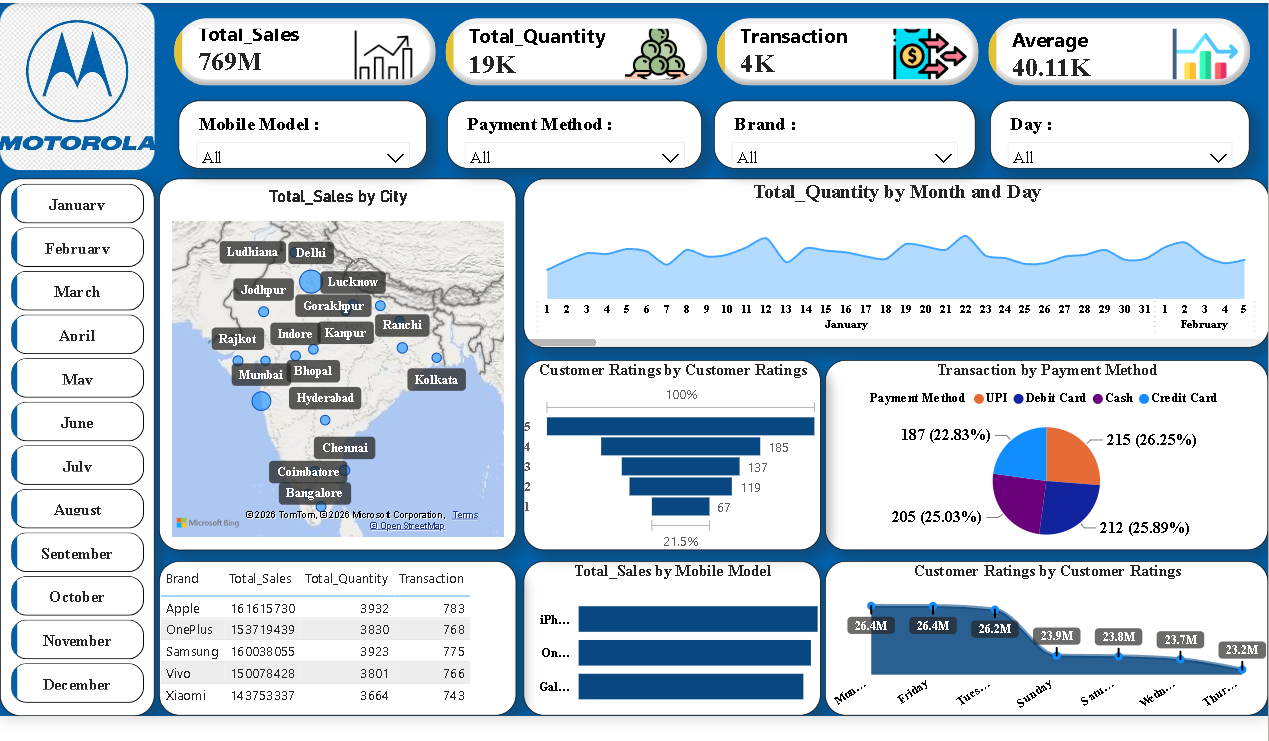

This screenshot's page, from the dashboard's own definition file:
{"tool":"powerbi","page":{"name":"Page 1","canvas":[1280,720],"ordinal":0},"visuals":[{"type":"shape","box":[0,177,155.7,542.6],"z":0},{"type":"image","box":[0,0,155.7,168.9],"z":1000},{"type":"advancedSlicerVisual","fields":{"Values":["SALES_DATA.Date.Variation.Date Hierarchy.Month"]},"box":[6.6,177,144.3,544.3],"z":2000},{"type":"cardVisual","fields":{"Data":["SALES_DATA.Total_Sales","SALES_DATA.Total_Quantity","SALES_DATA.Transaction","SALES_DATA.Average"]},"box":[160.7,0,1119.7,106.6],"z":3000},{"type":"map","fields":{"Category":["SALES_DATA.City"],"Size":["SALES_DATA.Total_Sales"]},"box":[160.7,177,360.7,375.4],"z":4000},{"type":"lineChart","fields":{"Category":["SALES_DATA.Date.Variation.Date Hierarchy.Month","SALES_DATA.Date.Variation.Date Hierarchy.Day"],"Y":["SALES_DATA.Total_Quantity"]},"box":[527.9,177,752.5,170.5],"z":5000},{"type":"barChart","fields":{"Category":["SALES_DATA.Mobile Model"],"Y":["SALES_DATA.Total_Sales"]},"box":[527.9,563.9,300,155.7],"z":6000},{"type":"pieChart","fields":{"Category":["SALES_DATA.Payment Method"],"Y":["SALES_DATA.Transaction"]},"box":[832.8,360.7,447.5,191.8],"z":7000},{"type":"funnel","title":" Customer Ratings by Customer Ratings","fields":{"Category":["SALES_DATA.Customer Ratings"],"Y":["CountNonNull(SALES_DATA.Customer Ratings)"]},"box":[527.9,360.7,300,191.8],"z":8000},{"type":"areaChart","title":" Customer Ratings by Customer Ratings","fields":{"Category":["SALES_DATA.Day"],"Y":["SALES_DATA.Total_Sales"]},"box":[832.8,563.9,447.5,155.7],"z":9000},{"type":"tableEx","fields":{"Values":["SALES_DATA.Brand","SALES_DATA.Total_Sales","SALES_DATA.Total_Quantity","SALES_DATA.Transaction"]},"box":[160.7,563.9,360.7,155.7],"z":10000},{"type":"slicer","fields":{"Values":["SALES_DATA.Mobile Model"]},"box":[180.3,98.4,250.8,68.9],"z":11000},{"type":"slicer","fields":{"Values":["SALES_DATA.Payment Method"]},"box":[450.8,98.4,257.4,68.9],"z":12000},{"type":"slicer","fields":{"Values":["SALES_DATA.Day"]},"box":[1000,98.4,262.3,68.9],"z":13000},{"type":"slicer","fields":{"Values":["SALES_DATA.Brand"]},"box":[721.3,98.4,263.9,68.9],"z":14000}]}

Visuals, with their boxes in screenshot pixels (x1, y1, x2, y2):
shape: [left=3, top=180, right=156, bottom=710]
image: [left=3, top=7, right=156, bottom=172]
advancedSlicerVisual - SALES_DATA.Date.Variation.Date Hierarchy.Month: [left=10, top=180, right=151, bottom=712]
cardVisual - SALES_DATA.Total_Sales x SALES_DATA.Total_Quantity: [left=160, top=7, right=1255, bottom=111]
map - SALES_DATA.City x SALES_DATA.Total_Sales: [left=160, top=180, right=513, bottom=547]
lineChart - SALES_DATA.Date.Variation.Date Hierarchy.Month x SALES_DATA.Date.Variation.Date Hierarchy.Day: [left=519, top=180, right=1255, bottom=346]
barChart - SALES_DATA.Mobile Model x SALES_DATA.Total_Sales: [left=519, top=558, right=813, bottom=710]
pieChart - SALES_DATA.Payment Method x SALES_DATA.Transaction: [left=818, top=359, right=1255, bottom=547]
" Customer Ratings by Customer Ratings" funnel: [left=519, top=359, right=813, bottom=547]
" Customer Ratings by Customer Ratings" areaChart: [left=818, top=558, right=1255, bottom=710]
tableEx - SALES_DATA.Brand x SALES_DATA.Total_Sales: [left=160, top=558, right=513, bottom=710]
slicer - SALES_DATA.Mobile Model: [left=180, top=103, right=425, bottom=170]
slicer - SALES_DATA.Payment Method: [left=444, top=103, right=696, bottom=170]
slicer - SALES_DATA.Day: [left=981, top=103, right=1237, bottom=170]
slicer - SALES_DATA.Brand: [left=709, top=103, right=967, bottom=170]
